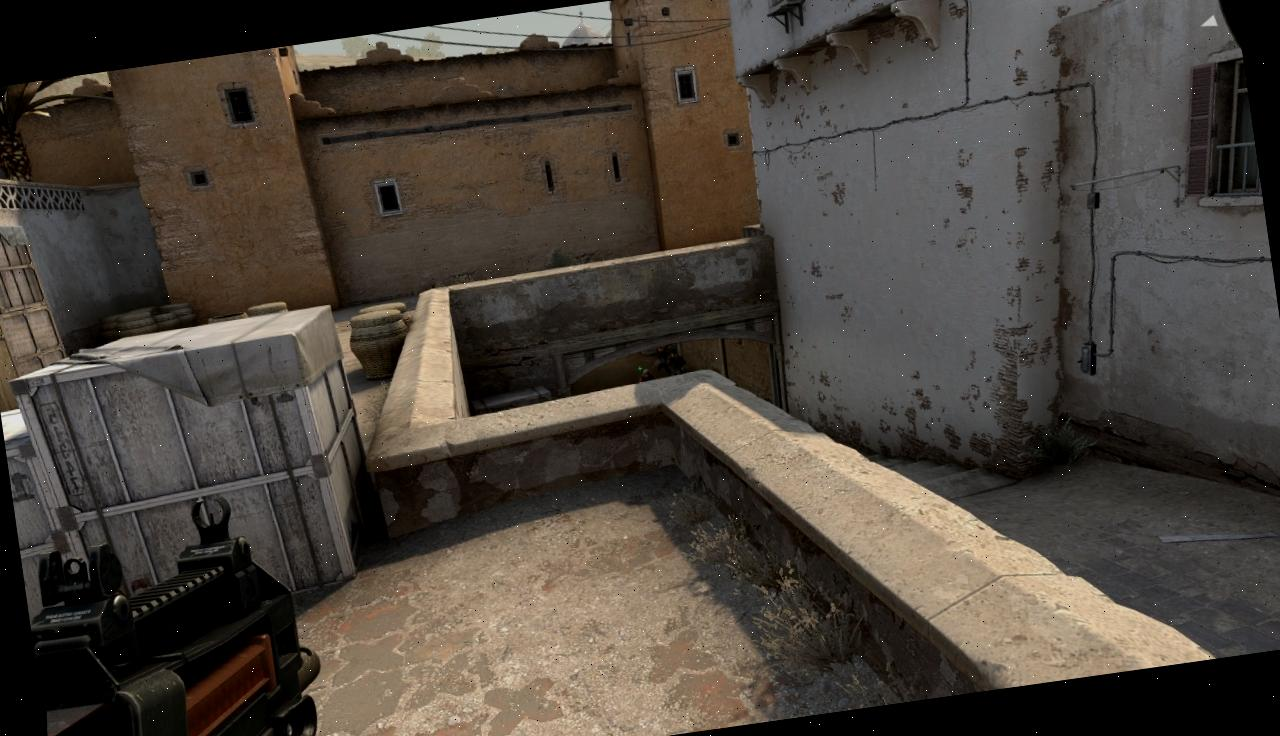tt: (665, 349, 687, 378), (654, 343, 672, 374), (637, 369, 656, 384)
tthead: (642, 369, 650, 379), (670, 350, 677, 359)
